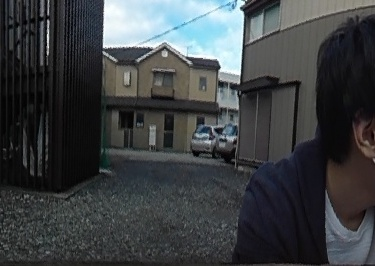person: (236, 11, 375, 265)
